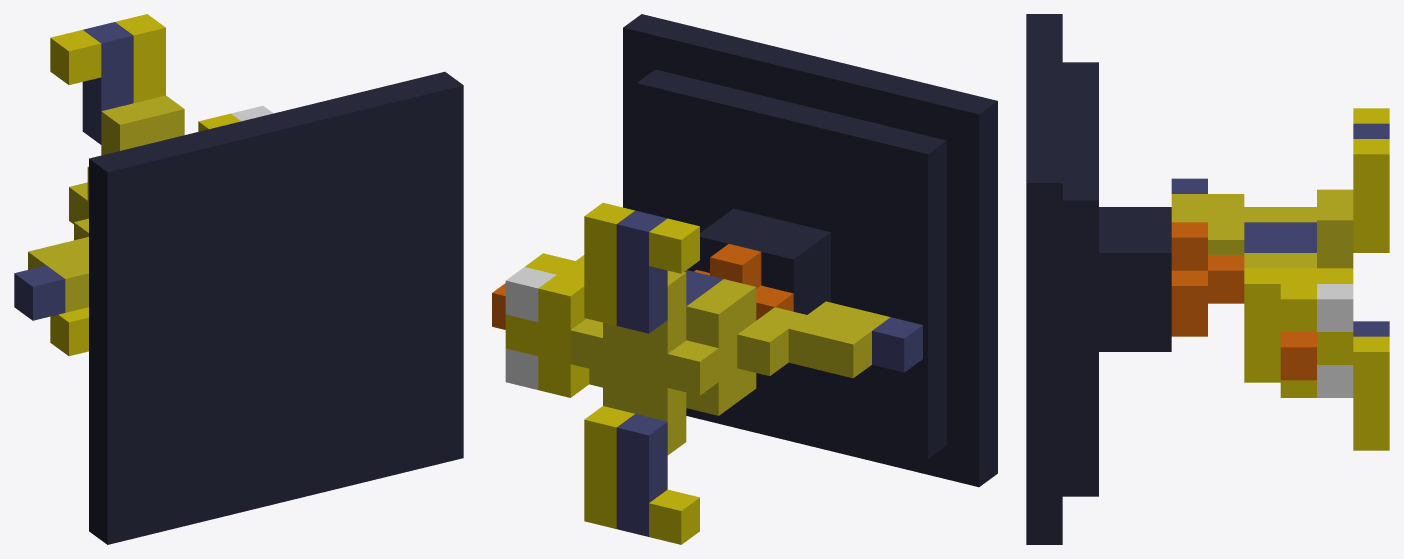
File: player.dae
3 views of the same model, side by side, from view 1: azimuth 30°, elevation 25°; view 2: azimuth 150°, elevation 25°; view 3: azimuth 270°, elevation 25° (orthographic). The views are drawn at different scales.
Parts seen in each view (by area): view 1: player.Merged; view 2: player.Merged; view 3: player.Merged.
Part boxes in pixels (x1=…): player.Merged: x1=14, y1=14, x2=463, y2=544; player.Merged: x1=492, y1=14, x2=997, y2=544; player.Merged: x1=1026, y1=14, x2=1389, y2=544.
Size of the model in its own units: 1.1 by 1 by 1.1.
